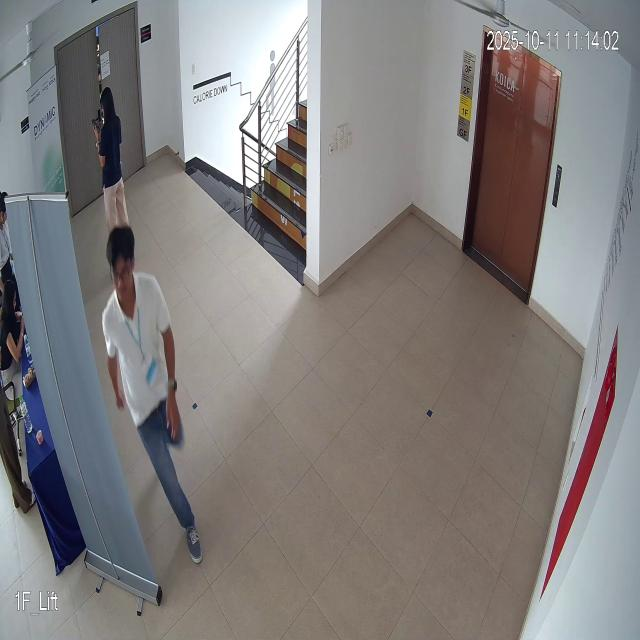face: (104, 218, 144, 308)
